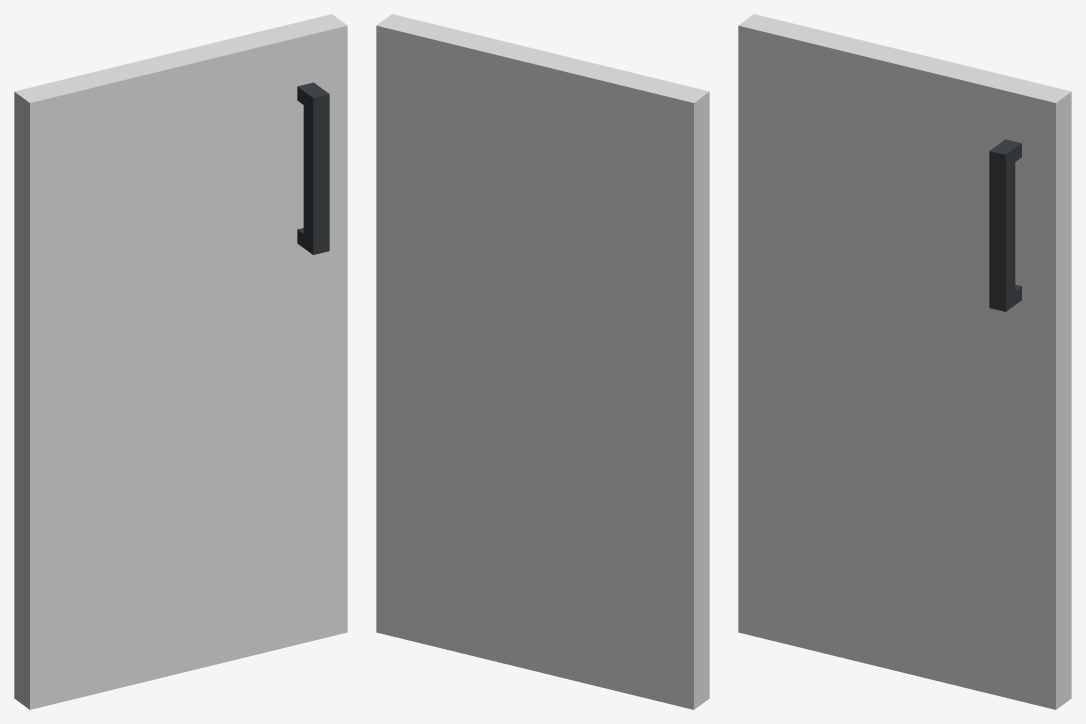
The model's file is Door1_C1_10.fbx.
3 views of the same model, side by side, from view 1: azimuth 30°, elevation 25°; view 2: azimuth 150°, elevation 25°; view 3: azimuth 330°, elevation 25° (orthographic).
Visible parts, largest first — view 1: Door1_C1_10; view 2: Door1_C1_10; view 3: Door1_C1_10.
Part boxes in pixels (x1,y1,x2,y2): Door1_C1_10: (14,14,347,709); Door1_C1_10: (376,14,709,709); Door1_C1_10: (738,14,1071,709).
Bounding box in the file's own units: 29 × 52.92 × 5.03.
